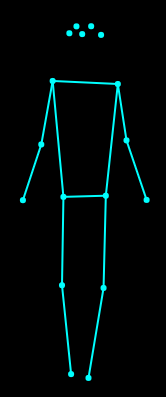mountain: (18, 16, 152, 382)
